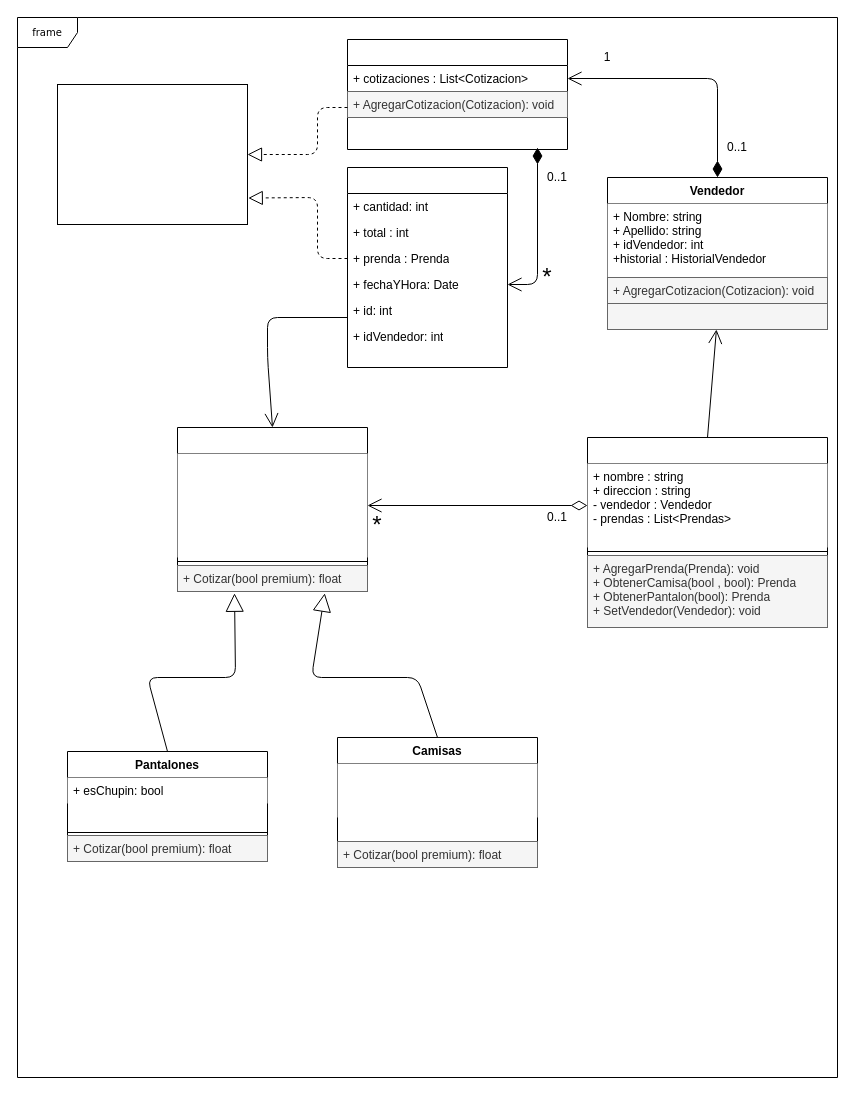
Image size: 855x1095. Some labels were removed from this diagram. Each missing label, with the box of its shape:
+ mangaCorta: bool + cuelloMao : bool: (337, 763, 537, 817)
+ stock : int + precio : int: (177, 453, 367, 557)
<<Interface>> IImprimible + Imprimir(): void: (56, 84, 248, 224)
Cotizacion: (346, 166, 508, 368)
Historial_Vendedor: (346, 38, 568, 150)
Prenda: (176, 426, 368, 592)
Tienda: (586, 436, 828, 628)
